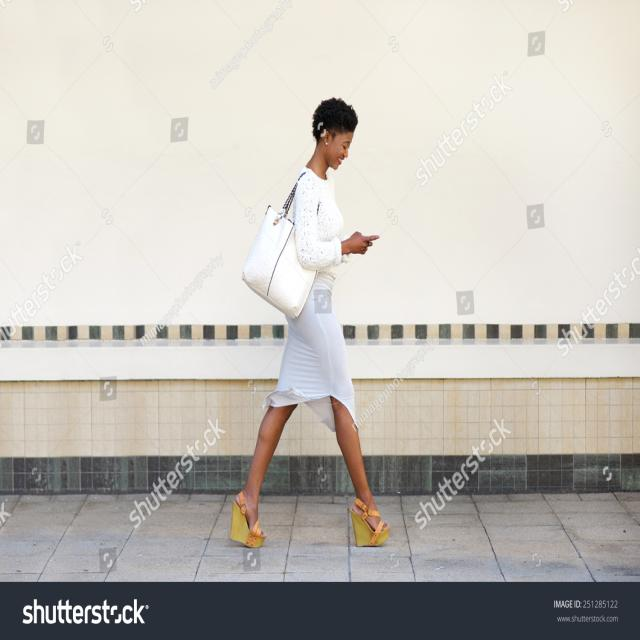Person: (231, 97, 391, 550)
